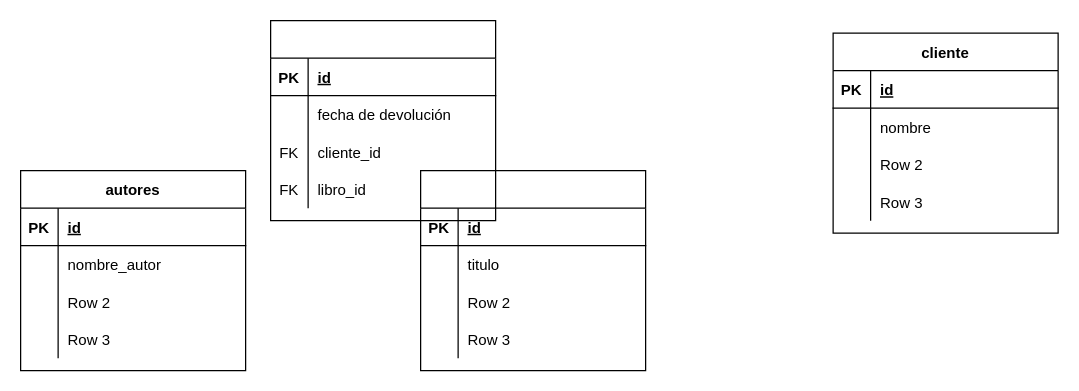
This 1079x391 diagram has some shape labels left out. The shapes that lost their labels are listed below. From the top down, each one's box as (x1, y1, x2, y2) in pixels, then its label:
(269, 19, 496, 221): libro_dev
(419, 169, 646, 371): libro
